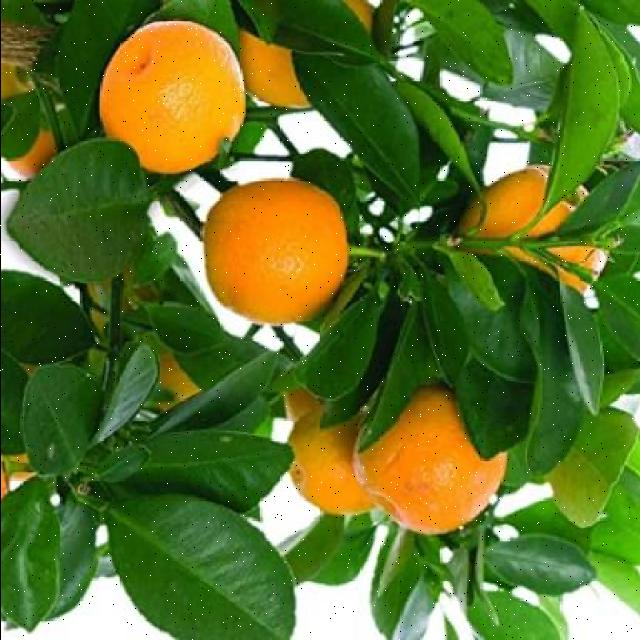Orange: (352, 384, 510, 536), (99, 17, 248, 174), (203, 177, 351, 325), (456, 163, 610, 294), (238, 0, 376, 108), (288, 404, 377, 516)
